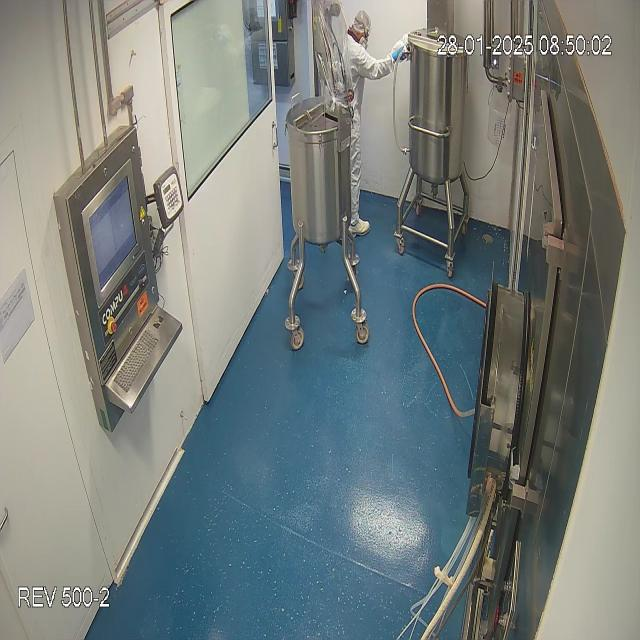bota: (349, 219, 375, 237)
pessoa: (344, 12, 413, 238)
touca: (348, 9, 368, 48)
